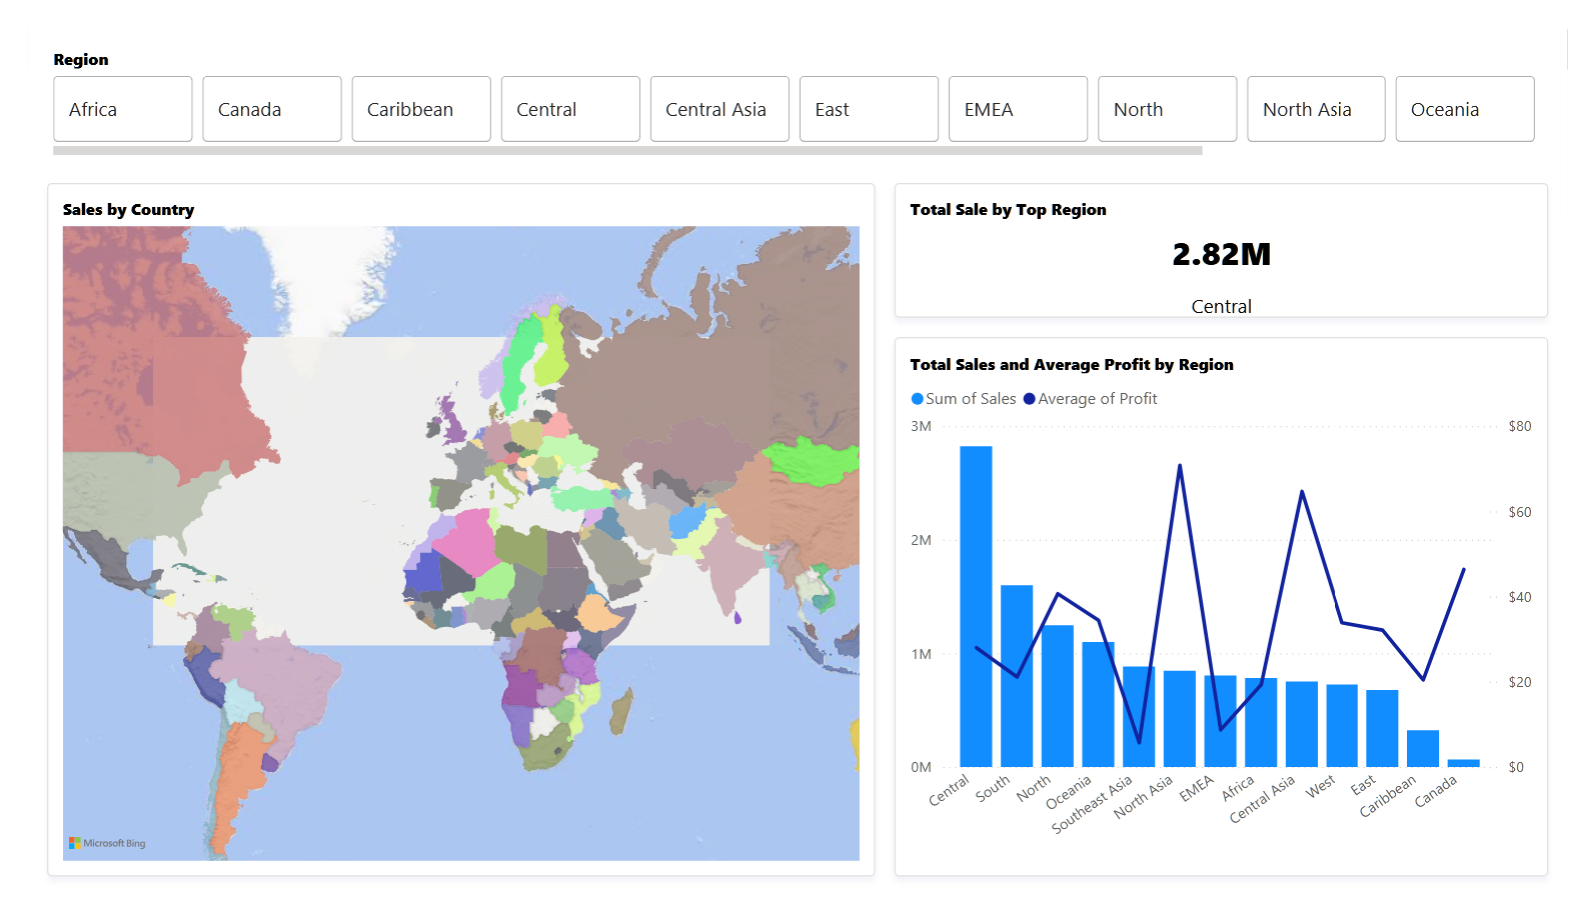

The page's visual inventory and layout, read from the dashboard file:
{"tool":"powerbi","page":{"name":"Regional Analysis","canvas":[1280,720],"ordinal":2},"visuals":[{"type":"filledMap","title":"Sales by Country","fields":{"Category":["superstore.Country"],"Series":["superstore.Country"]},"box":[16,128,688,576],"z":0},{"type":"lineStackedColumnComboChart","title":"Total Sales and Average Profit by Region","fields":{"Category":["superstore.Region"],"Y":["Sum(superstore.Sales)"],"Y2":["Divide(Sum(superstore.Profit), ScopedEval(Sum(superstore.Profit), []))"]},"box":[720,256,544,448],"z":1000},{"type":"kpi","title":"Total Sale by Top Region","fields":{"TrendLine":["region_sales_summary.Region"],"Indicator":["Sum(region_sales_summary.Sales)"]},"box":[720,128,544,112],"z":3000},{"type":"advancedSlicerVisual","fields":{"Values":["superstore.Region"]},"box":[16,16,1248,96],"z":4000}]}

Visuals, with their boxes in screenshot pixels (x1, y1, x2, y2), scaled from the page's 1280x720 canvas onto the 1596x923 screenshot:
"Sales by Country" filledMap: pyautogui.locateOnScreen(20, 164, 878, 902)
"Total Sales and Average Profit by Region" lineStackedColumnComboChart: pyautogui.locateOnScreen(898, 328, 1576, 902)
"Total Sale by Top Region" kpi: pyautogui.locateOnScreen(898, 164, 1576, 308)
advancedSlicerVisual - superstore.Region: pyautogui.locateOnScreen(20, 21, 1576, 144)
